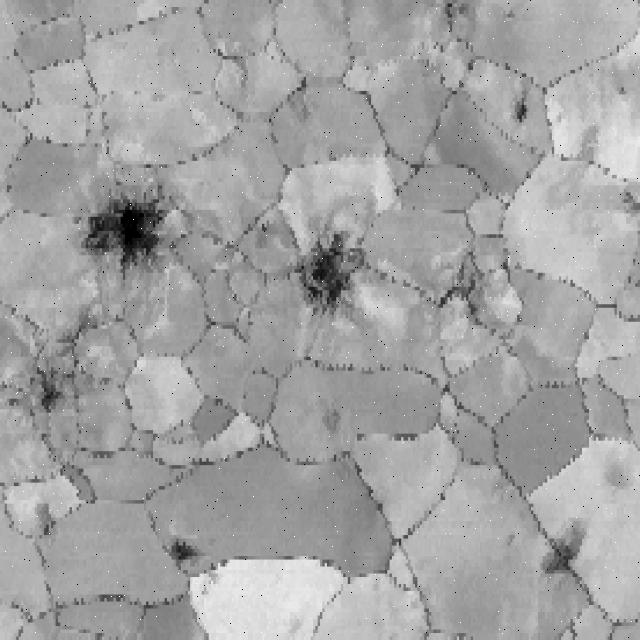good_void: (78, 191, 180, 270), (430, 241, 509, 338), (306, 228, 368, 323), (534, 504, 589, 588), (34, 364, 72, 424), (161, 526, 200, 581), (500, 87, 533, 138), (27, 498, 60, 541), (320, 392, 347, 442)
